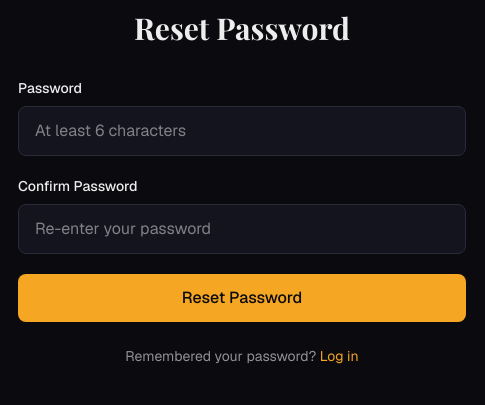
Test case: ResetPasswordPage › shows error when passwords don't match
In the password field labelled "Password": (242, 131) 18,106 -> 466,156, type "password123"
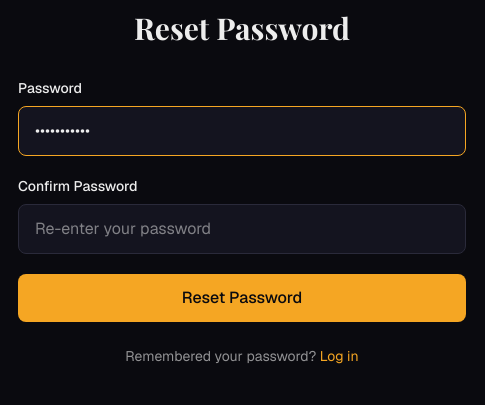
In the password field labelled "Confirm Password": (242, 229) 18,204 -> 466,254, type "different123"
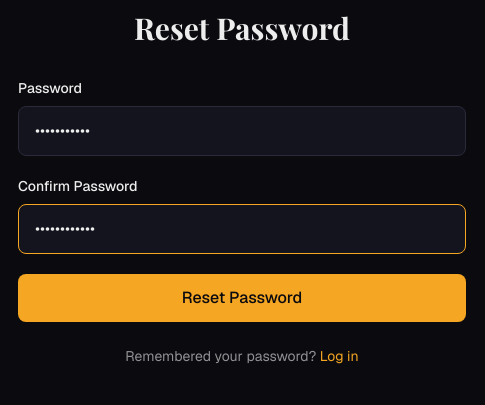
Click the button "Reset Password": (242, 298) 18,274 -> 466,322
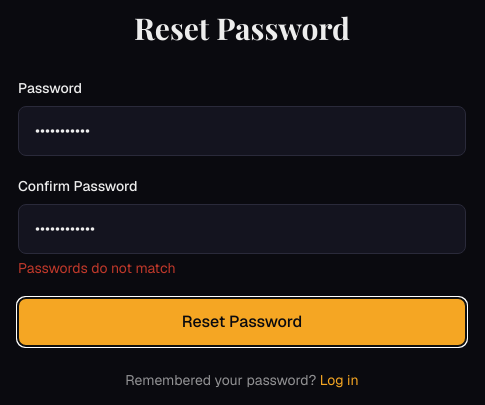
Expected: the text "Passwords do not match" is shown, 18,259 -> 176,277
